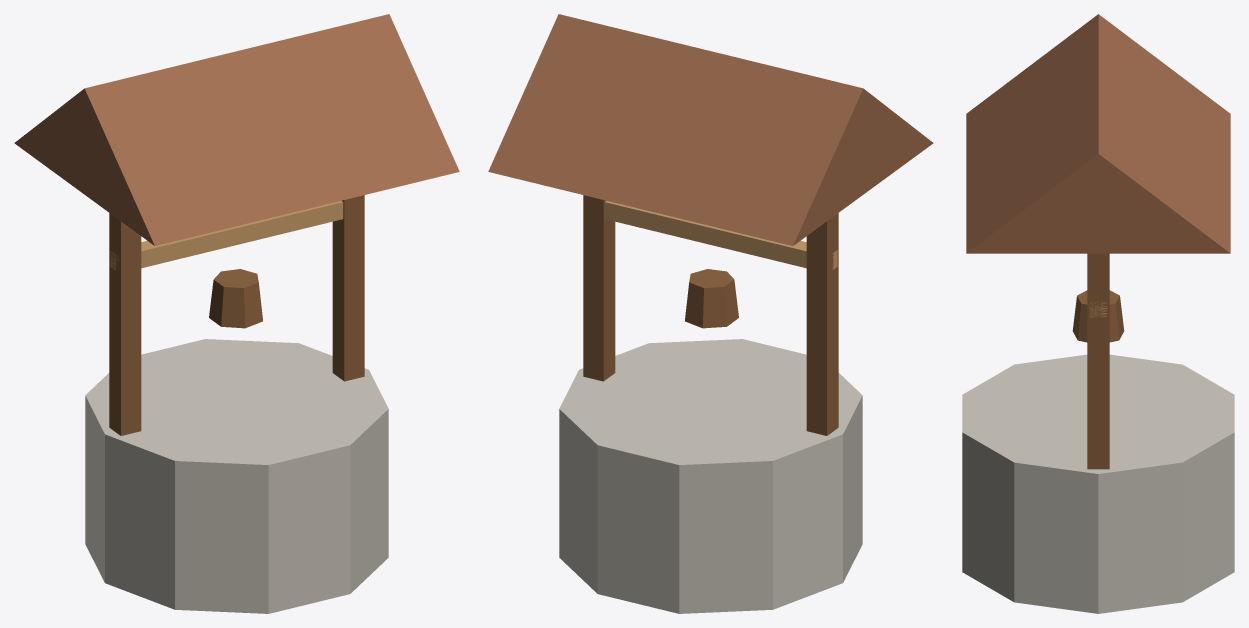
Rendered from well.obj.
3 views of the same model, side by side, from view 1: azimuth 30°, elevation 25°; view 2: azimuth 150°, elevation 25°; view 3: azimuth 270°, elevation 25° (orthographic). The views are drawn at different scales.
Parts seen in each view (by area): view 1: well; view 2: well; view 3: well.
Boxes of the visible parts, x1,y1,x2,y2 form: well: (14,14,459,613); well: (488,14,933,613); well: (962,14,1234,613).
Bounding box in the file's own units: 1.5 × 2.35 × 1.24.
